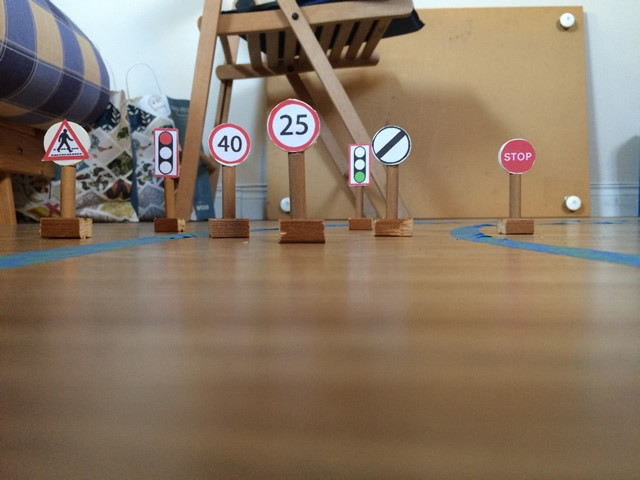Full Speed: (373, 126, 412, 164)
Green Traffic Light: (346, 142, 371, 186)
Person Crossing: (42, 119, 94, 163)
Red Traffic Light: (154, 128, 179, 176)
Speed Limit 25: (265, 100, 322, 151)
Speed Limit 40: (209, 122, 253, 167)
Stop Sign: (499, 137, 537, 173)
